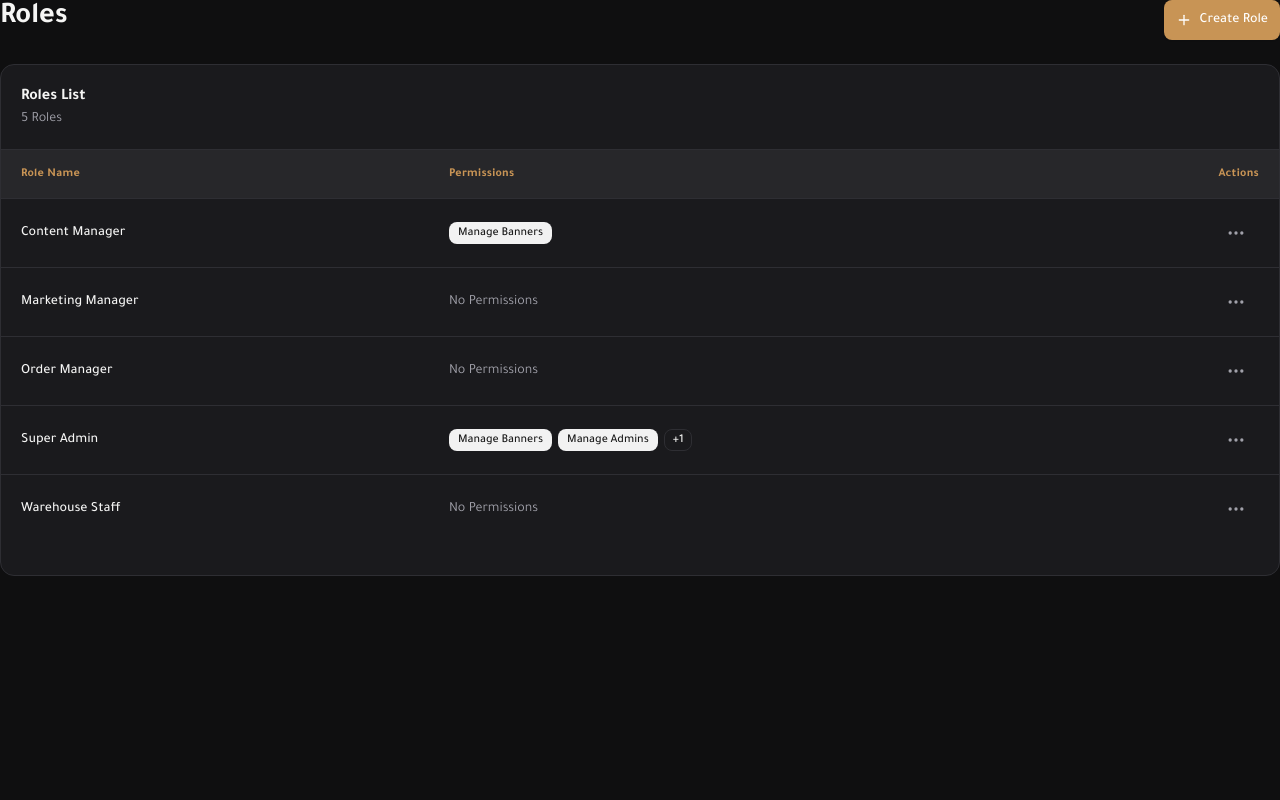
Test case: RolesPage › validates create, closes after success, and renders the new role
Click the button "Create Role": [1222, 20] box x1=1164 y1=0 x2=1279 y2=40
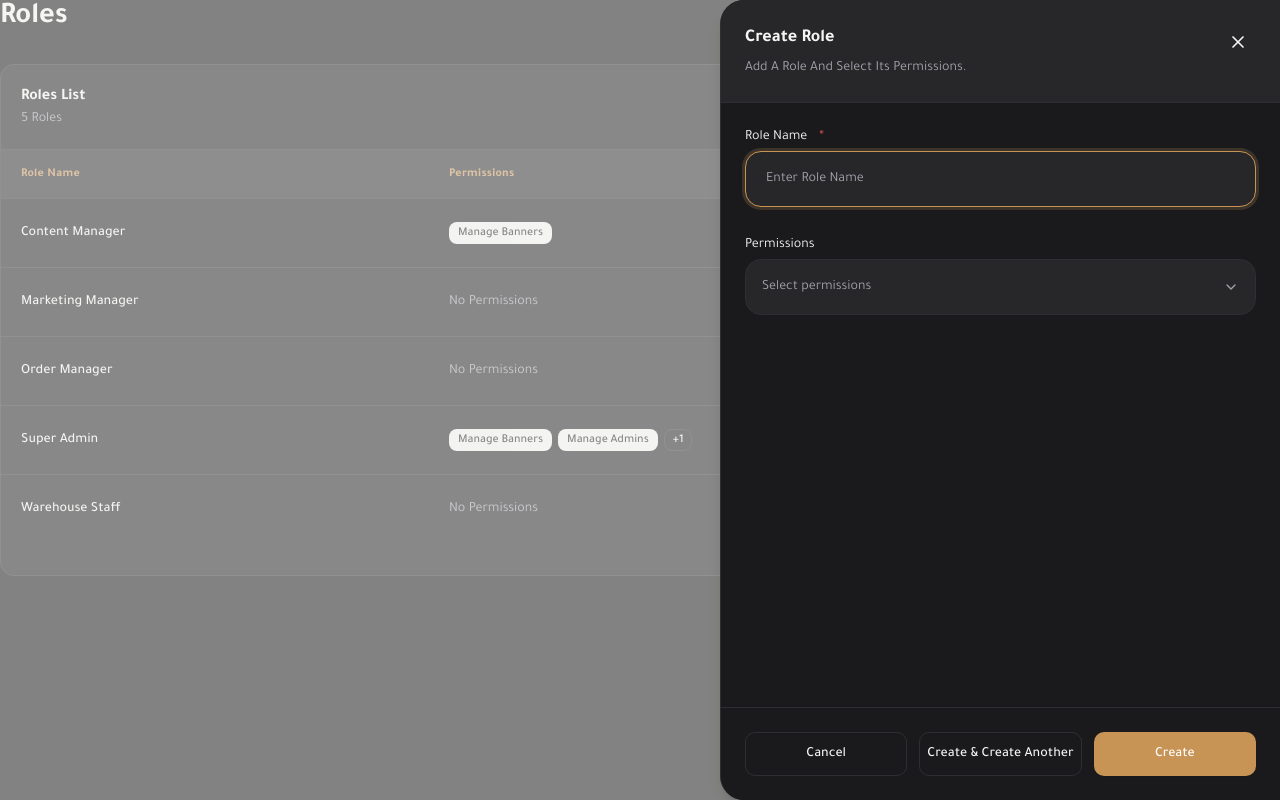
Click the button "Create": [1175, 754] box x1=1094 y1=732 x2=1256 y2=776
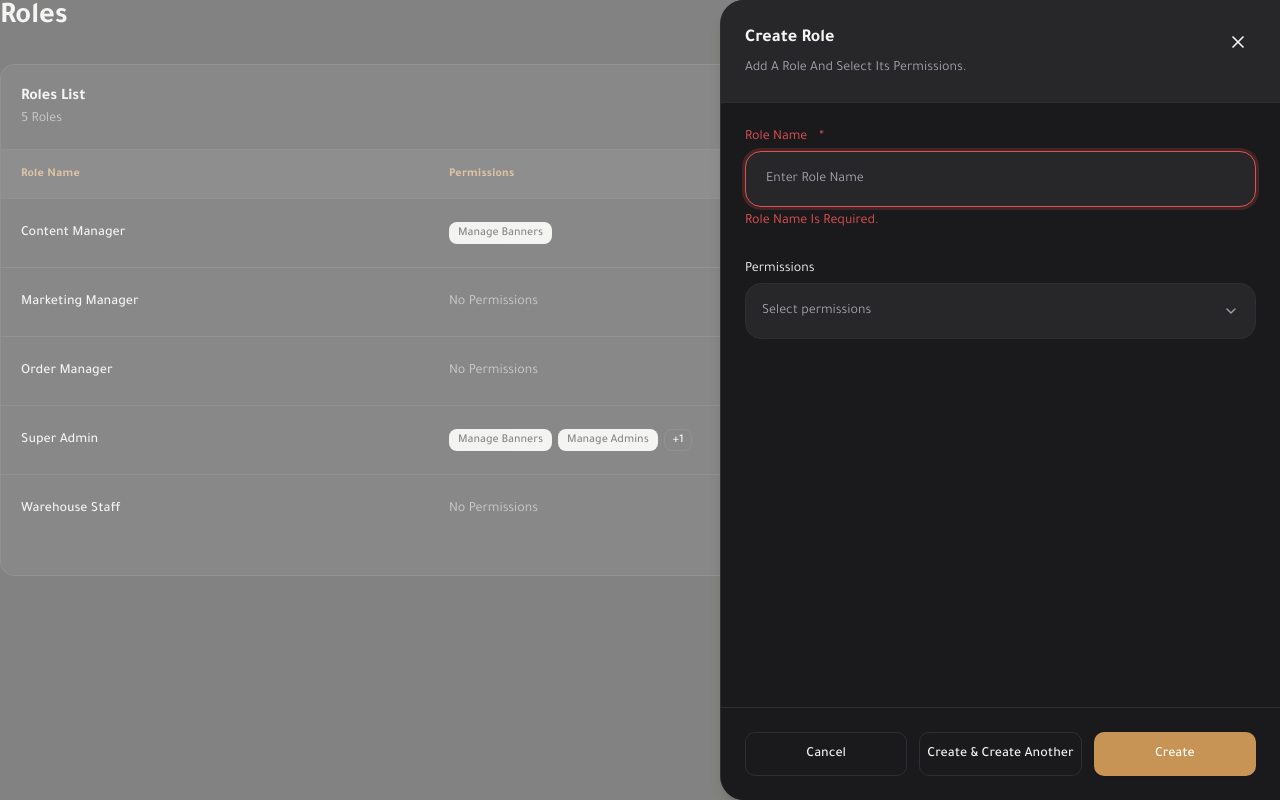
Result: the text "Role name is required." is shown at x1=745 y1=214 x2=879 y2=228
In the field labelled "Role Name *": [1000, 179] box x1=754 y1=161 x2=1247 y2=197, type "  Auditor  "
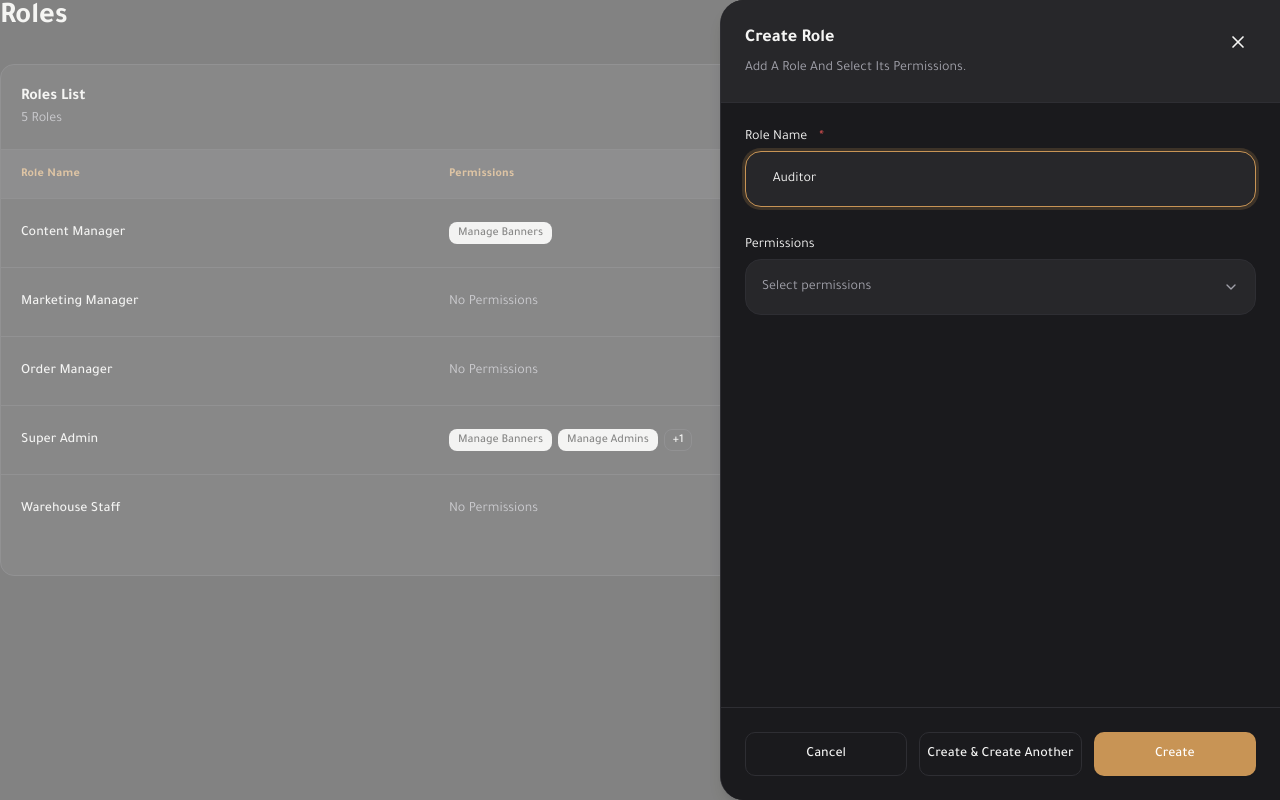
Click the button "Select permissions": [817, 287] box x1=745 y1=259 x2=1256 y2=315
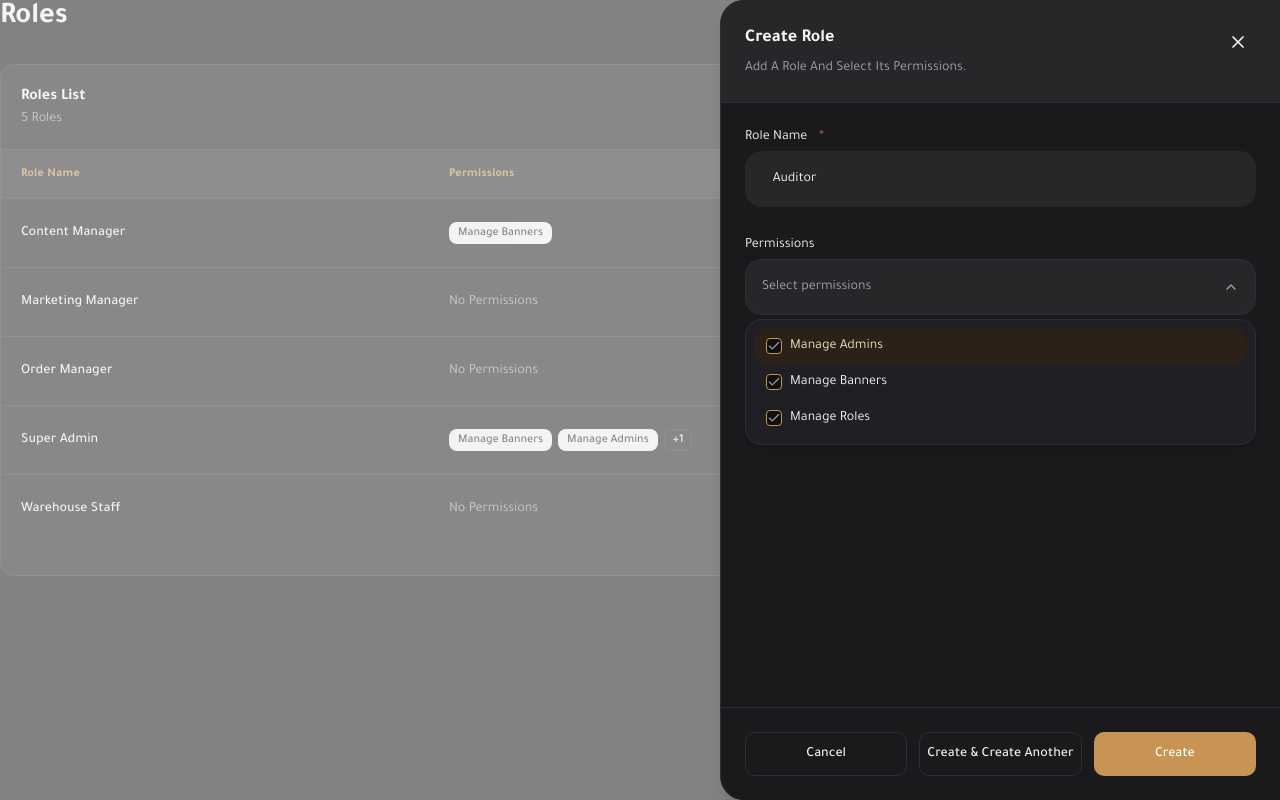
Click the option "manage roles": [818, 418] box x1=766 y1=410 x2=870 y2=426
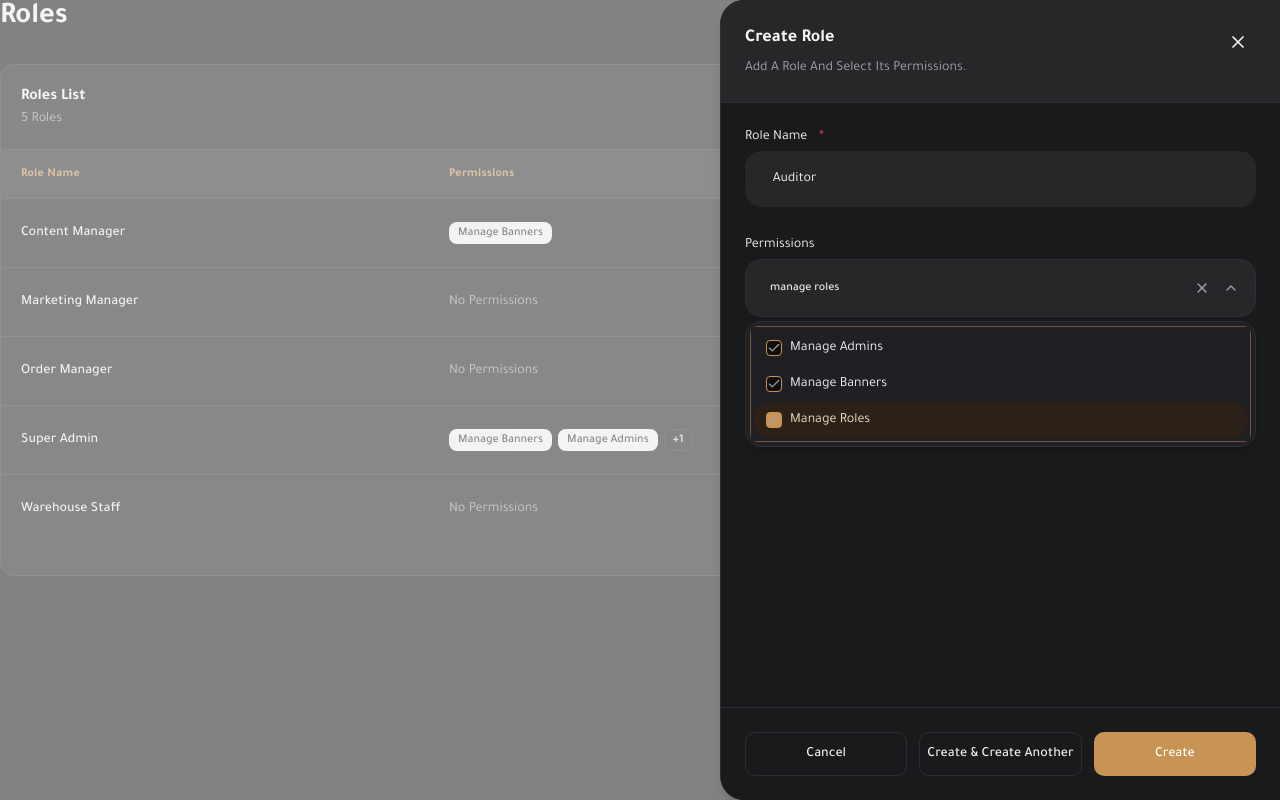
Click the button "Create": [1175, 754] box x1=1094 y1=732 x2=1256 y2=776
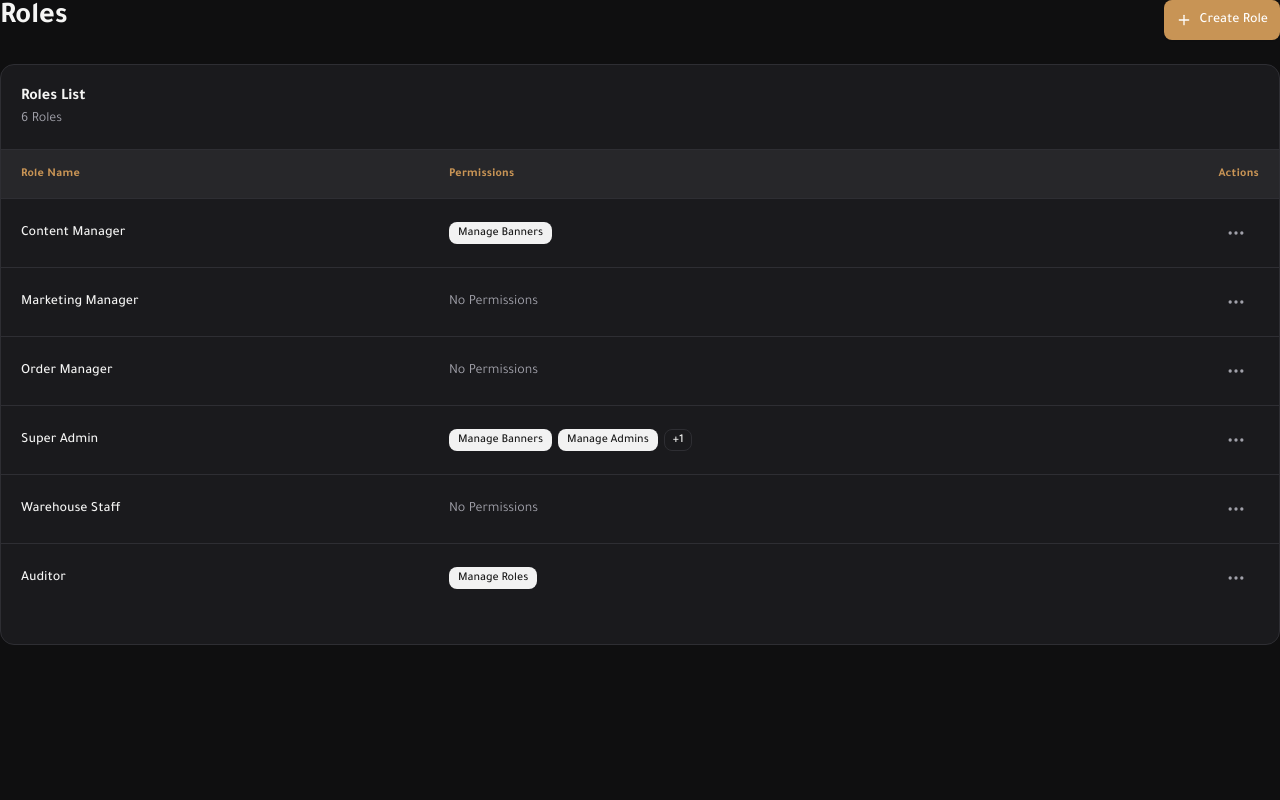
Result: the dialog is gone
Result: the text "Auditor" is shown 2 times
